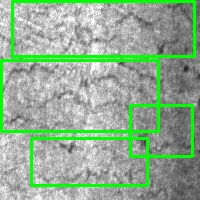crazing: (1, 60, 158, 131), (12, 1, 194, 56), (32, 138, 147, 185), (130, 105, 192, 156)
